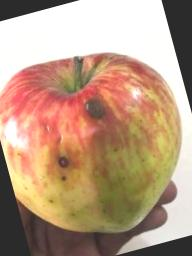Apple Overripe: (0, 24, 192, 251)
